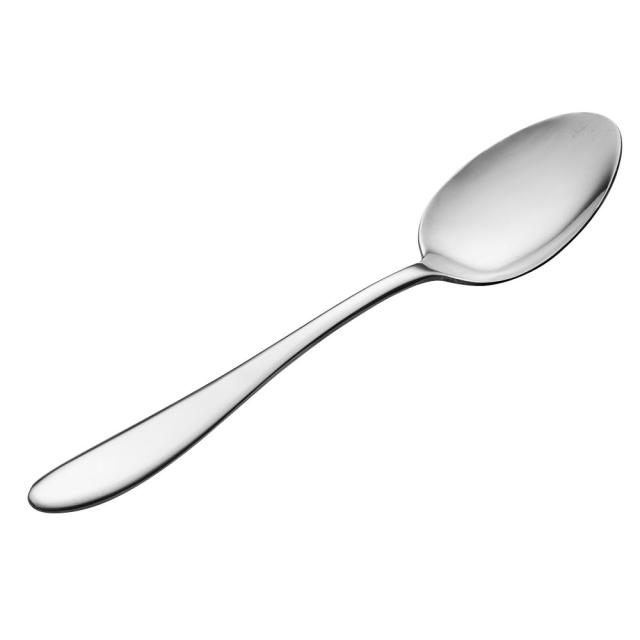spoon: (22, 97, 630, 524)
